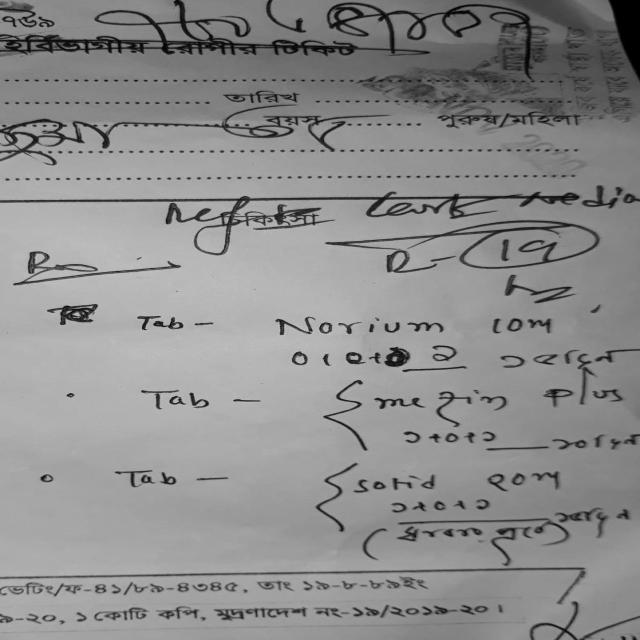Emezin Plus: (325, 376, 639, 421)
Esotid: (309, 456, 467, 505)
Norium: (266, 312, 464, 341)
